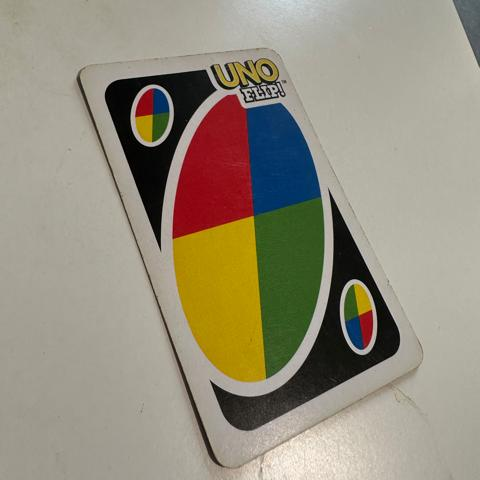lcolor-40: (116, 75, 185, 151)
